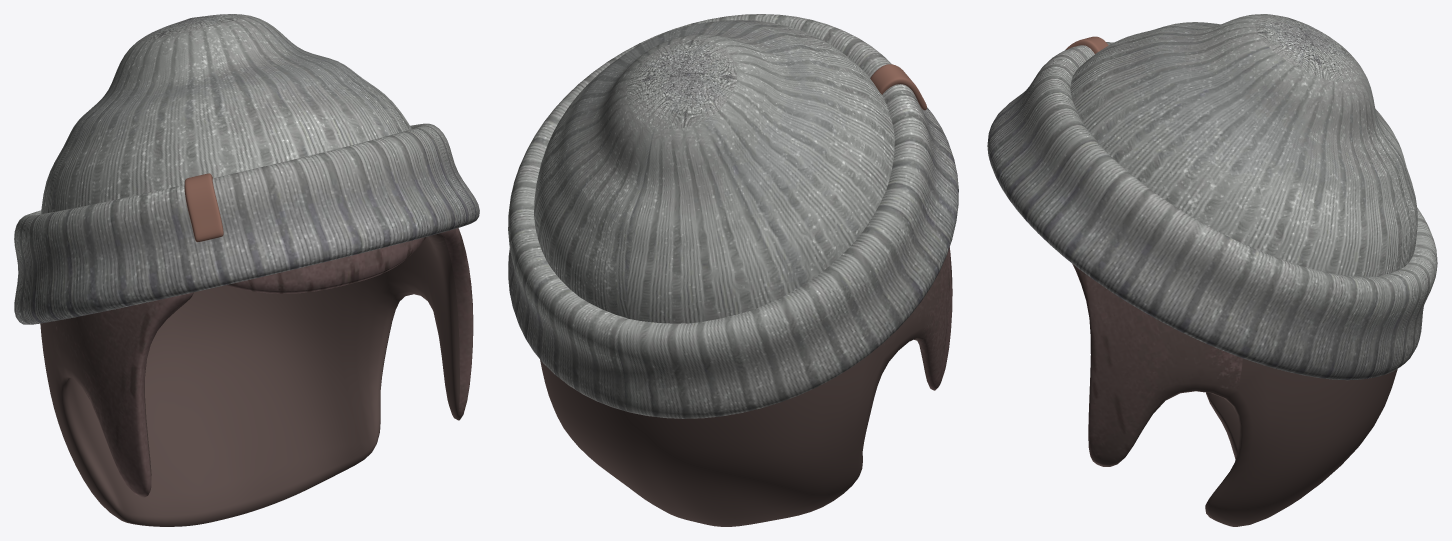
File: hair2.glb
The picture shows the model from 3 angles, left to right: view 1: azimuth 30°, elevation 25°; view 2: azimuth 150°, elevation 25°; view 3: azimuth 270°, elevation 25°; orthographic projection. The views are drawn at different scales.
Visible parts, largest first — view 1: hair.002; view 2: hair.002; view 3: hair.002.
Part boxes in pixels (<box>): hair.002: <box>14,14,479,526</box>; hair.002: <box>508,14,958,526</box>; hair.002: <box>987,14,1437,526</box>.
Bounding box in the file's own units: 1.6 × 1.86 × 1.57.
Materials: 1 (1 with a texture image).
